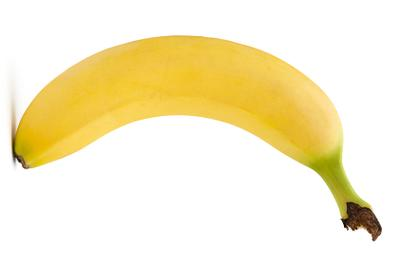banana: (0, 0, 400, 272)
